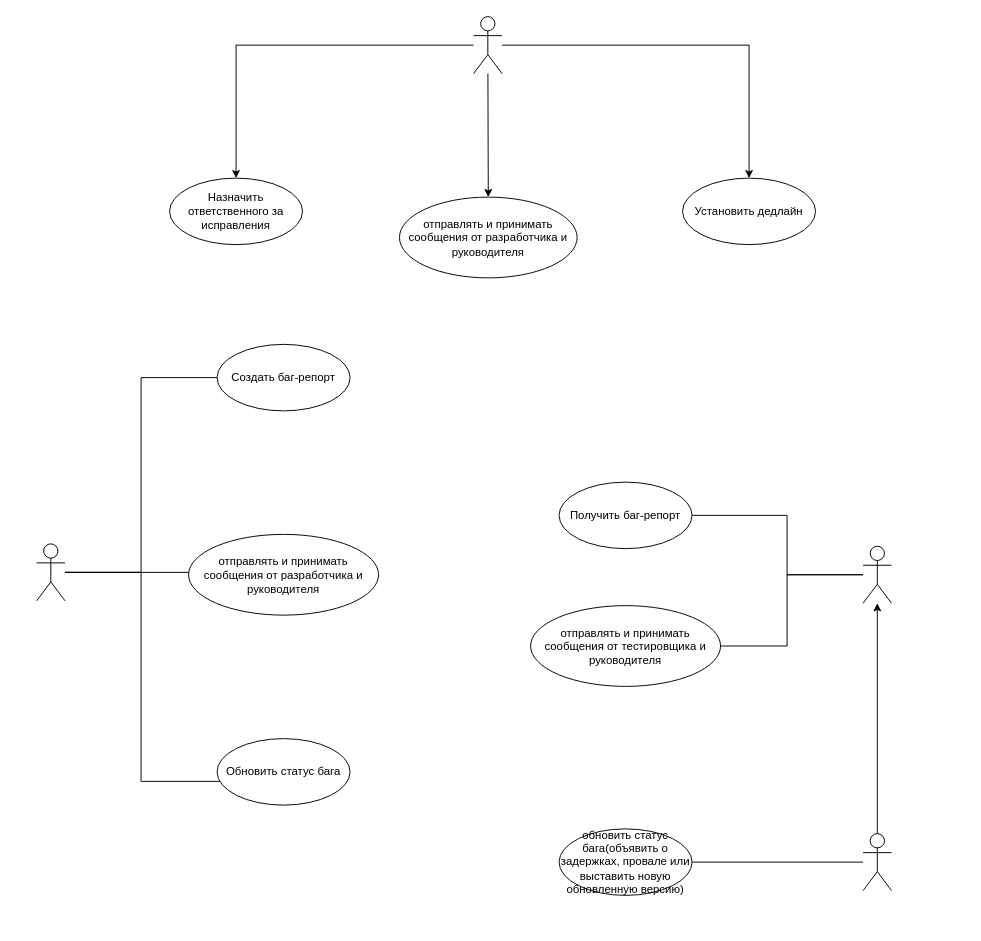
The diagram is 981 pixels wide and 941 high, and some of its shapes have lost their labels. Here are the shapes that lost their labels. From the top down, the centre of each, then its label:
At point (487, 45): "Руководитель проекта".
At point (50, 572): "Тестировщик".
At point (877, 574): "Член команды разработки".
At point (877, 862): "Тим-лид команды разработчиков".
